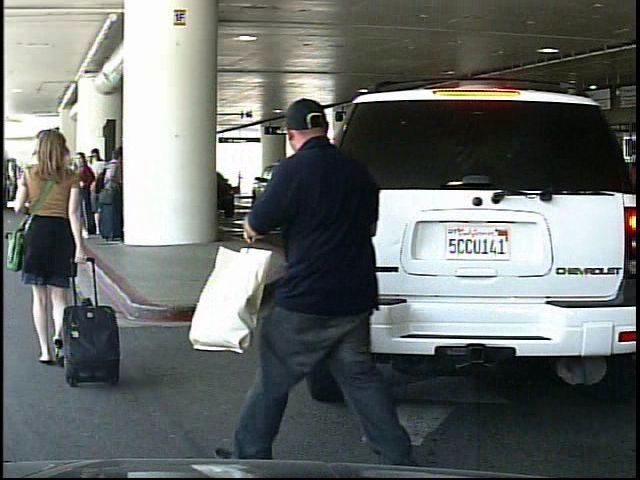person: (249, 88, 411, 467), (5, 125, 99, 397)
